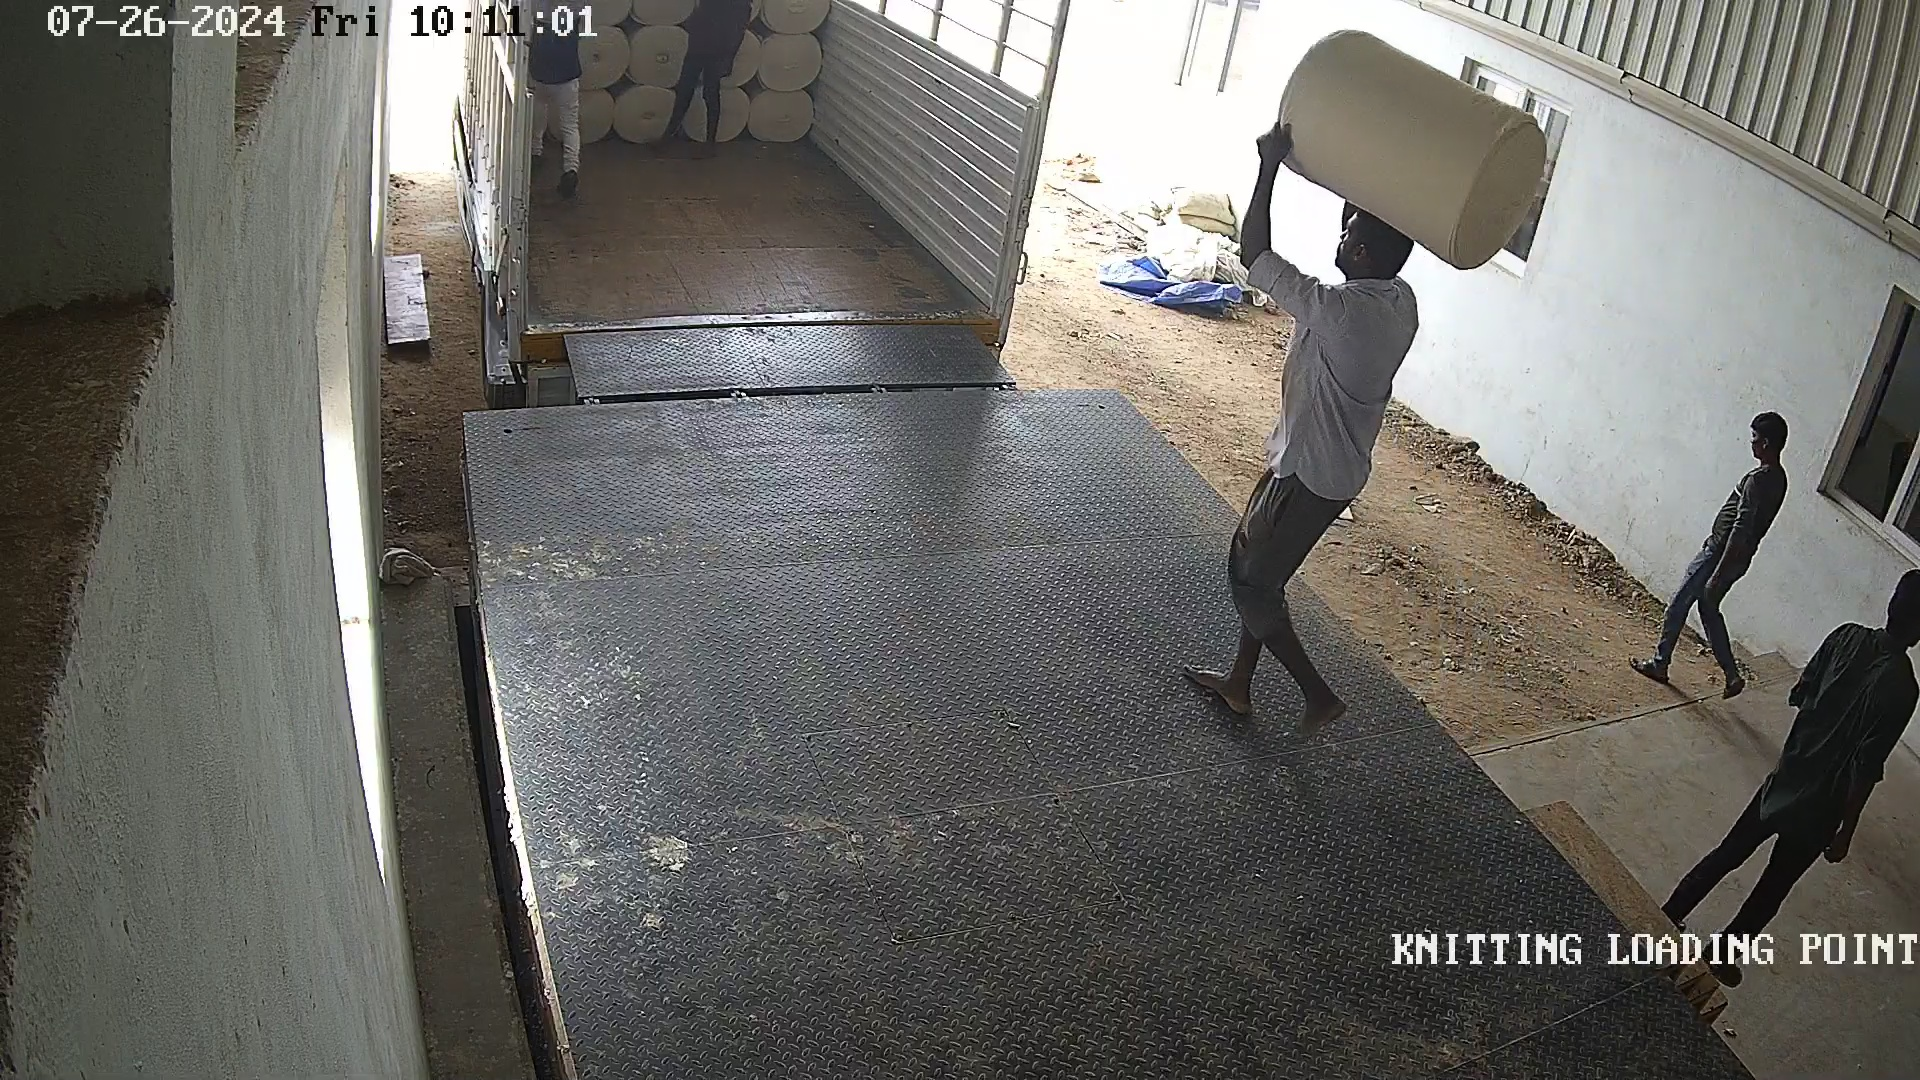bag: (1270, 18, 1557, 274)
